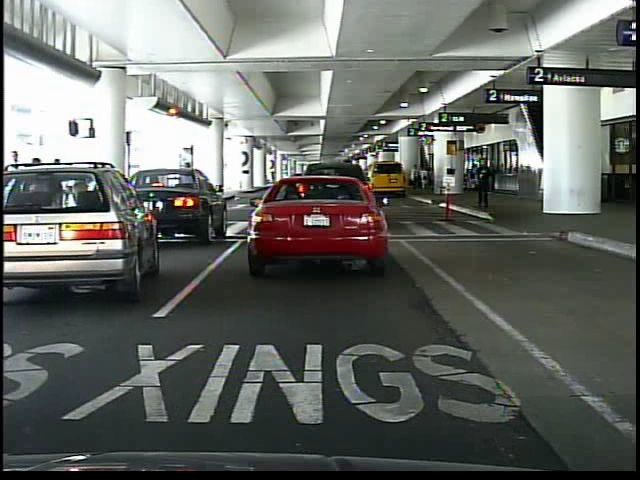person: (10, 147, 27, 235), (175, 159, 199, 221), (331, 158, 351, 215), (475, 157, 493, 210), (409, 159, 422, 195)
